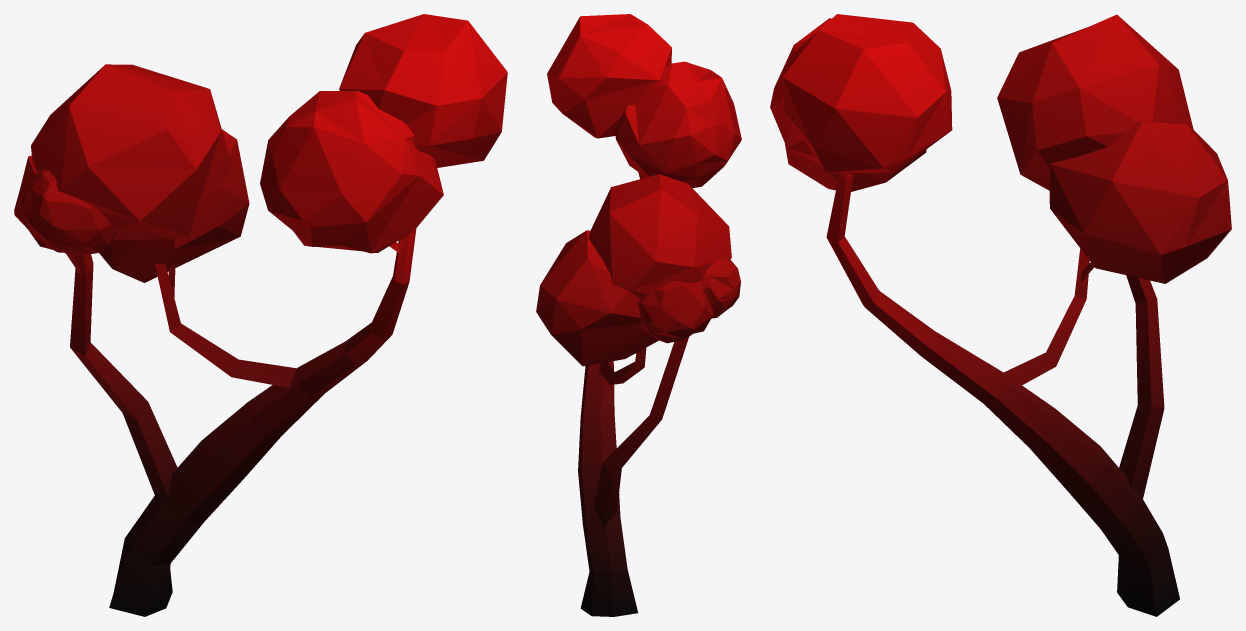
Rendered from TreeBent04.fbx.
The picture shows the model from 3 angles, left to right: view 1: azimuth 30°, elevation 25°; view 2: azimuth 150°, elevation 25°; view 3: azimuth 270°, elevation 25°; orthographic projection. The views are drawn at different scales.
Visible parts, largest first — view 1: TreeBent04_LOD0; view 2: TreeBent04_LOD0; view 3: TreeBent04_LOD0.
Part boxes in pixels (x1=…): TreeBent04_LOD0: x1=14, y1=14, x2=507, y2=616; TreeBent04_LOD0: x1=536, y1=14, x2=741, y2=616; TreeBent04_LOD0: x1=770, y1=14, x2=1231, y2=616.
Size of what is drawn, in the model's own units: 708 by 1254 by 820.
